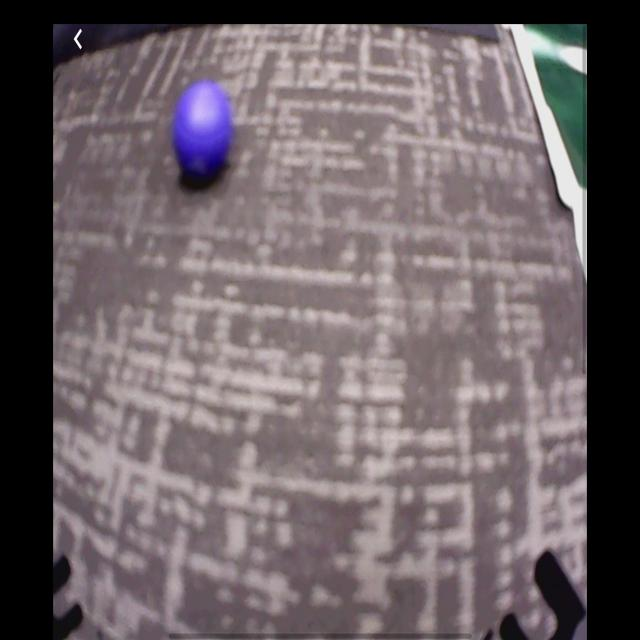ball: (175, 82, 231, 178)
